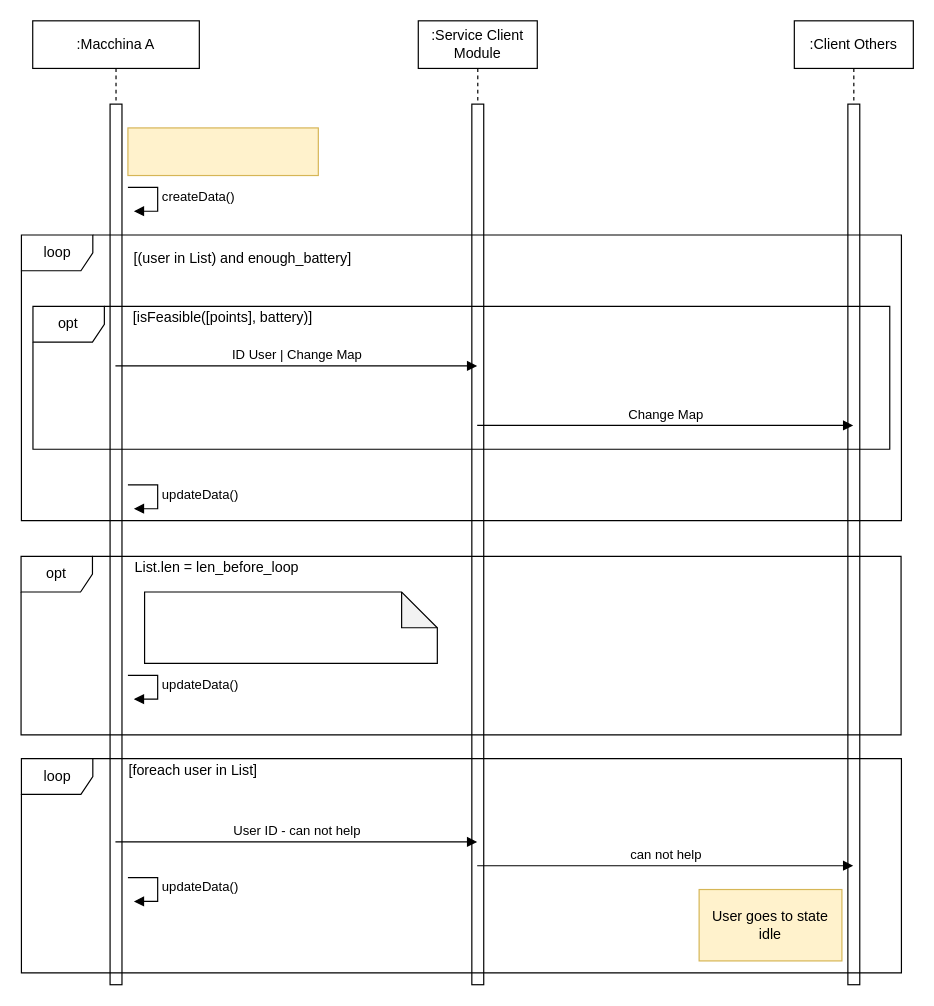
This 934x1006 diagram has some shape labels left out. Each missing label, with the box of its shape:
A goes to state updating_map_mov_client | updating_map_mov_target: (127, 127, 318, 176)
Messaggi come per il diagramma dei messaggi aggiornamento mappa cliente: (143, 591, 437, 663)
